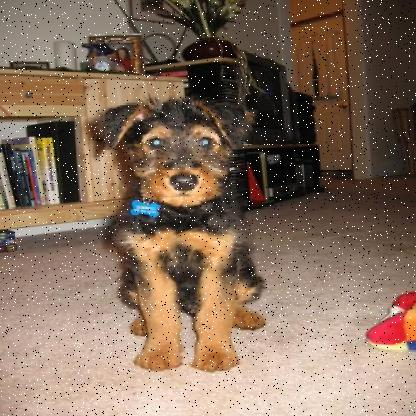dog: (86, 94, 276, 375)
